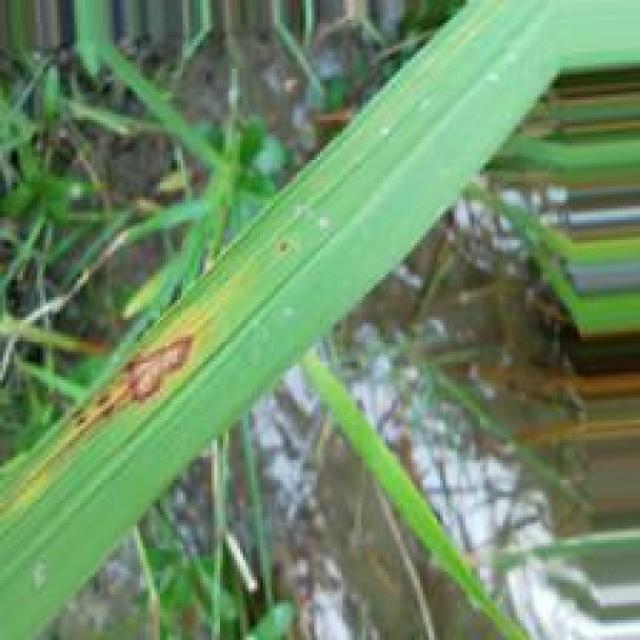Leaf_Blast: (0, 288, 226, 533)
